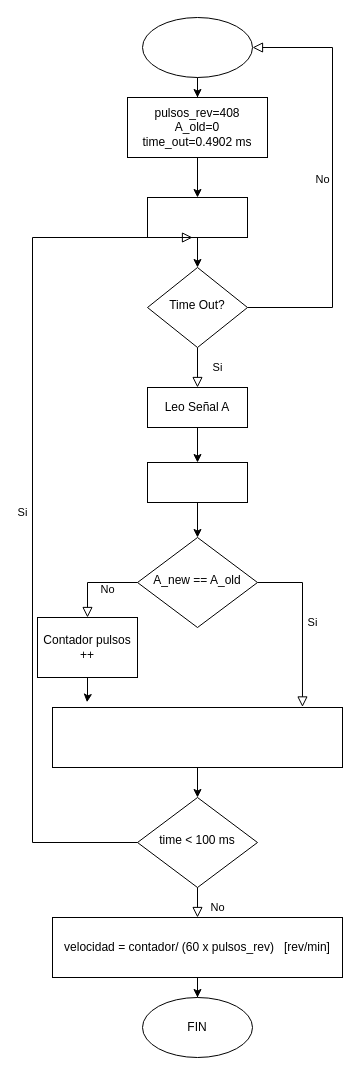
The diagram is 360 pixels wide and 1075 high, and some of its shapes have lost their labels. Here are the shapes that lost their labels. From the top down, the centre of each, then its label:
At (x=197, y=47): "INICIO".
At (x=197, y=217): "Inicio Timer".
At (x=197, y=482): "A_new= lectura A".
At (x=197, y=737): "A_old= A_new".
